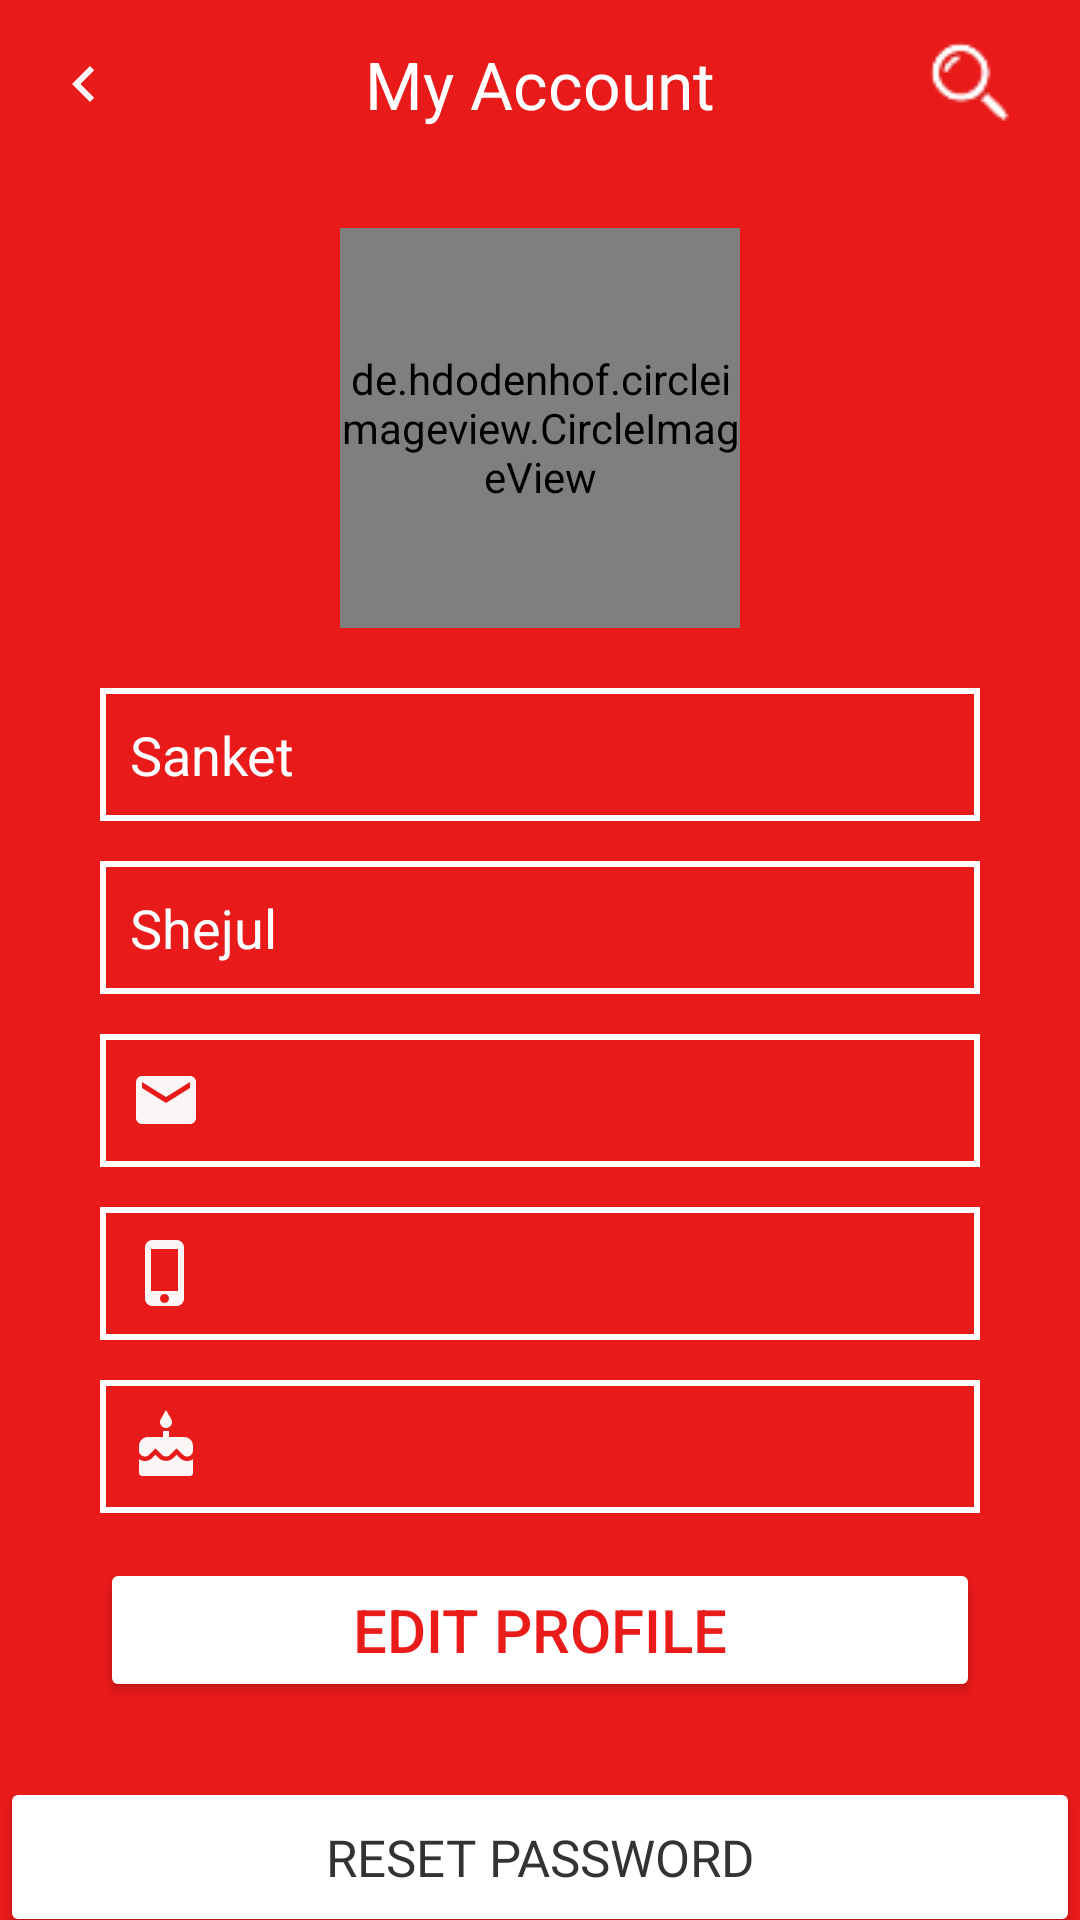

Named icons in this screenshot (1080px×1920px) and their bounding boxes, (x1, y1, x2, y2):
chevron left: (72, 66, 94, 102)
search: (931, 44, 1009, 121)
